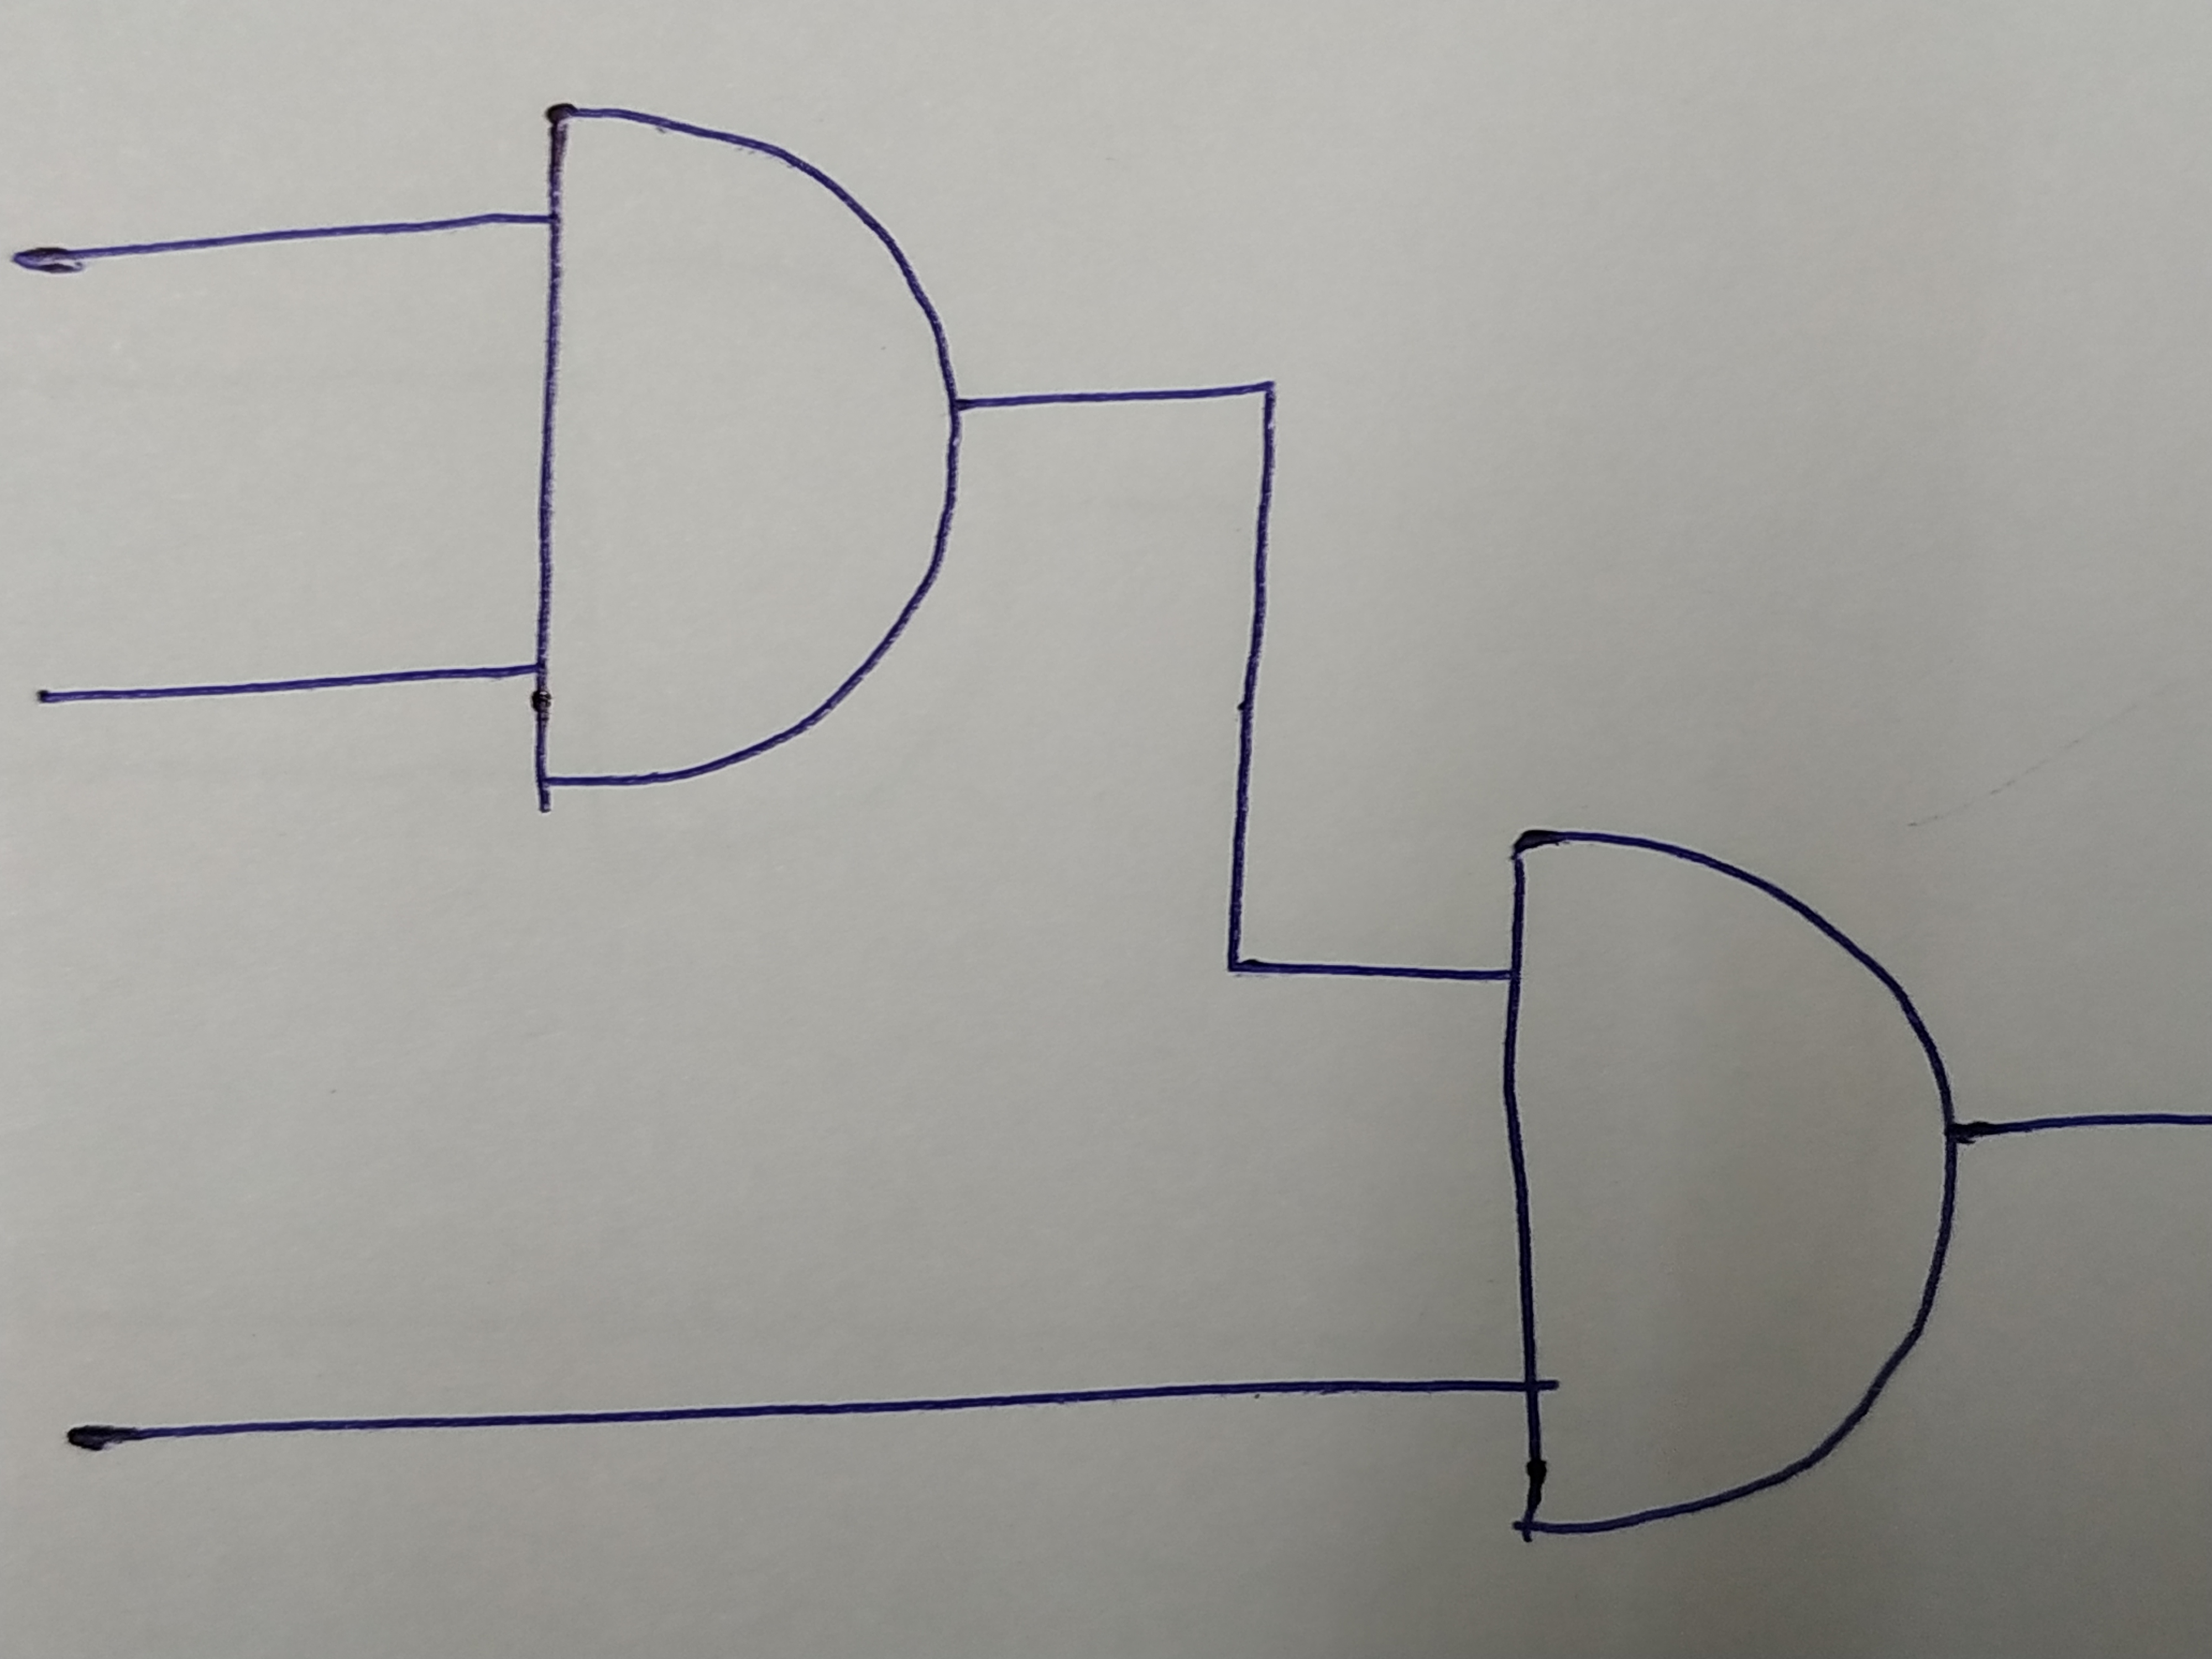and: (1505, 817, 1959, 1535), (531, 103, 954, 795)
